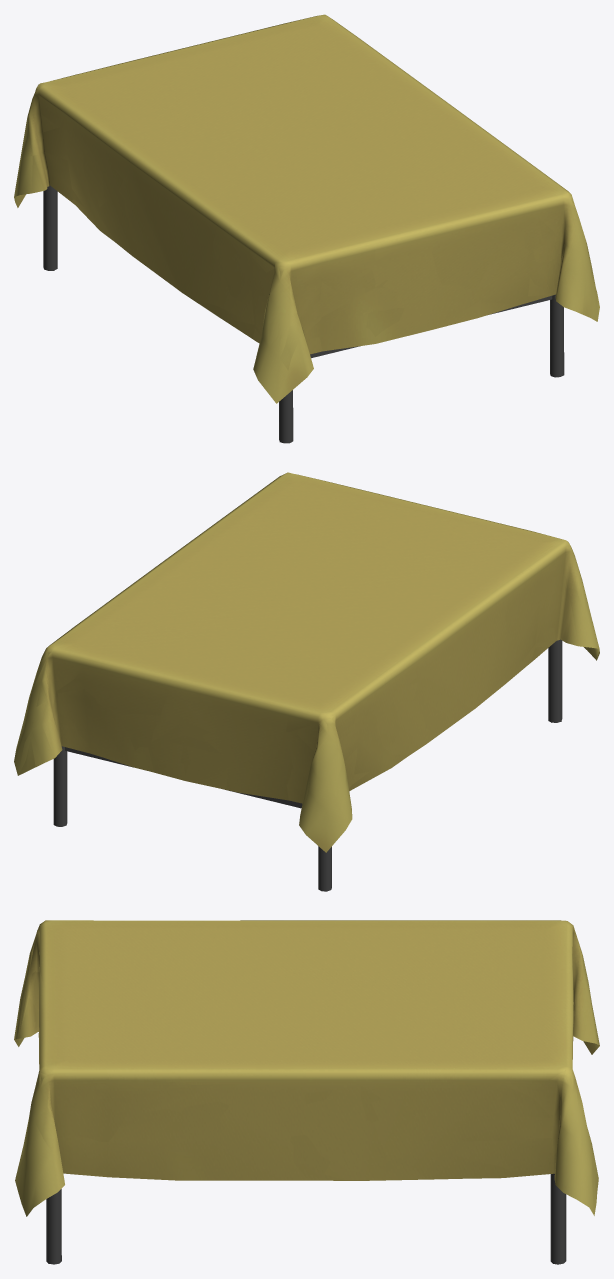
The model's file is pi_tabel01_05_04.gltf.
3 renders of one model, top to bottom at view 1: azimuth 30°, elevation 25°; view 2: azimuth 150°, elevation 25°; view 3: azimuth 270°, elevation 25°, orthographic. The views are drawn at different scales.
Visible parts, largest first — view 1: um_pi_tabel01_05_04_model_lod2Shape:pi_tabel01_cloth01_01_01, um_pi_tabel01_05_04_model_lod0Shape:pi_tabel01_cloth01_01_01, um_pi_tabel01_05_04_model_lod1Shape:pi_tabel01_cloth01_01_01, um_pi_tabel01_05_04_model_lod0Shape:pi_tabel01_01, um_pi_tabel01_05_04_model_lod2Shape:pi_tabel01_01, um_pi_tabel01_05_04_model_lod1Shape:pi_tabel01_01; view 2: um_pi_tabel01_05_04_model_lod0Shape:pi_tabel01_cloth01_01_01, um_pi_tabel01_05_04_model_lod2Shape:pi_tabel01_cloth01_01_01, um_pi_tabel01_05_04_model_lod1Shape:pi_tabel01_cloth01_01_01, um_pi_tabel01_05_04_model_lod0Shape:pi_tabel01_01, um_pi_tabel01_05_04_model_lod2Shape:pi_tabel01_01, um_pi_tabel01_05_04_model_lod1Shape:pi_tabel01_01; view 3: um_pi_tabel01_05_04_model_lod2Shape:pi_tabel01_cloth01_01_01, um_pi_tabel01_05_04_model_lod0Shape:pi_tabel01_cloth01_01_01, um_pi_tabel01_05_04_model_lod1Shape:pi_tabel01_cloth01_01_01, um_pi_tabel01_05_04_model_lod1Shape:pi_tabel01_01, um_pi_tabel01_05_04_model_lod2Shape:pi_tabel01_01, um_pi_tabel01_05_04_model_lod0Shape:pi_tabel01_01.
Boxes of the visible parts, box(x1,y1,x2,y2) form: um_pi_tabel01_05_04_model_lod2Shape:pi_tabel01_cloth01_01_01: box(14, 14, 599, 403); um_pi_tabel01_05_04_model_lod0Shape:pi_tabel01_cloth01_01_01: box(14, 16, 595, 403); um_pi_tabel01_05_04_model_lod1Shape:pi_tabel01_cloth01_01_01: box(23, 17, 588, 351); um_pi_tabel01_05_04_model_lod0Shape:pi_tabel01_01: box(43, 187, 560, 443); um_pi_tabel01_05_04_model_lod2Shape:pi_tabel01_01: box(43, 185, 564, 443); um_pi_tabel01_05_04_model_lod1Shape:pi_tabel01_01: box(43, 187, 563, 441); um_pi_tabel01_05_04_model_lod0Shape:pi_tabel01_cloth01_01_01: box(14, 472, 599, 852); um_pi_tabel01_05_04_model_lod2Shape:pi_tabel01_cloth01_01_01: box(14, 472, 599, 852); um_pi_tabel01_05_04_model_lod1Shape:pi_tabel01_cloth01_01_01: box(37, 478, 595, 829); um_pi_tabel01_05_04_model_lod0Shape:pi_tabel01_01: box(54, 639, 562, 891); um_pi_tabel01_05_04_model_lod2Shape:pi_tabel01_01: box(55, 640, 561, 891); um_pi_tabel01_05_04_model_lod1Shape:pi_tabel01_01: box(53, 652, 556, 890); um_pi_tabel01_05_04_model_lod2Shape:pi_tabel01_cloth01_01_01: box(14, 920, 599, 1216); um_pi_tabel01_05_04_model_lod0Shape:pi_tabel01_cloth01_01_01: box(14, 920, 599, 1213); um_pi_tabel01_05_04_model_lod1Shape:pi_tabel01_cloth01_01_01: box(28, 920, 599, 1198); um_pi_tabel01_05_04_model_lod1Shape:pi_tabel01_01: box(46, 1174, 565, 1264); um_pi_tabel01_05_04_model_lod2Shape:pi_tabel01_01: box(47, 1173, 566, 1264); um_pi_tabel01_05_04_model_lod0Shape:pi_tabel01_01: box(46, 1174, 565, 1264).
Bounding box in the file's own units: 1.5 × 0.7608 × 2.06.
Materials: 2 (2 with a texture image).
